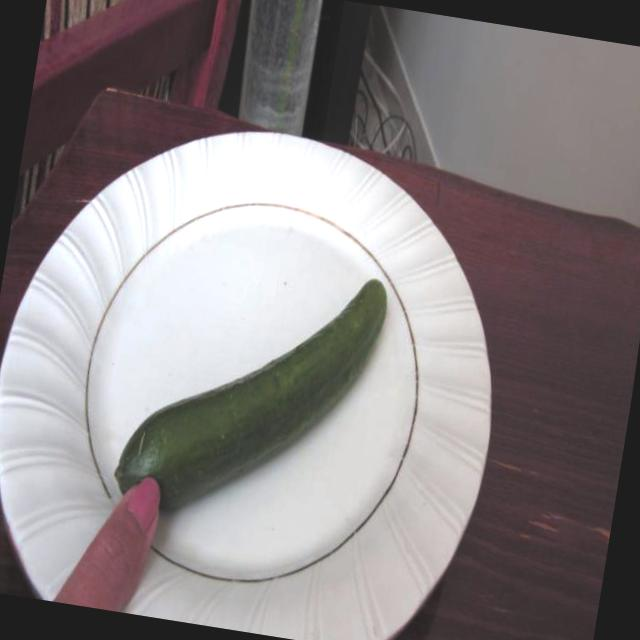Cucumber: (102, 237, 398, 528)
Finger: (81, 465, 170, 615)
